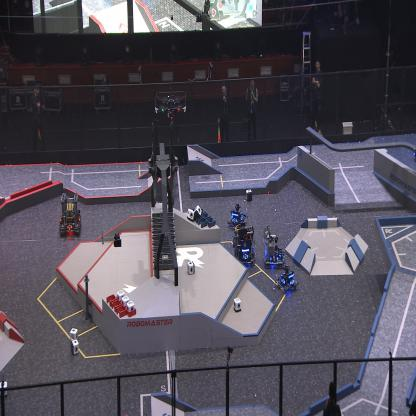car: (58, 190, 82, 235), (233, 221, 255, 268), (262, 225, 284, 269), (275, 264, 299, 293), (228, 203, 248, 228)
